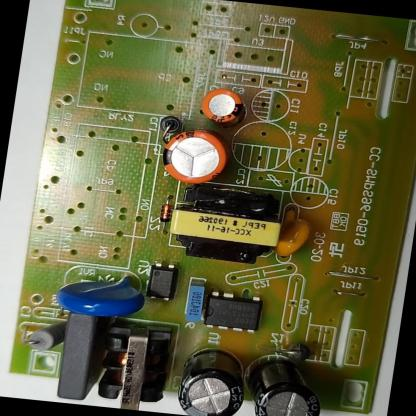Cap1: (157, 126, 230, 186)
Cap2: (198, 88, 243, 124)
Cap3: (171, 345, 251, 416)
Cap4: (239, 352, 327, 416)
MOSFET: (202, 290, 264, 334)
Mov: (53, 269, 146, 322)
Resistor: (25, 314, 68, 354)
Transformer: (168, 181, 286, 265), (90, 318, 176, 412)
